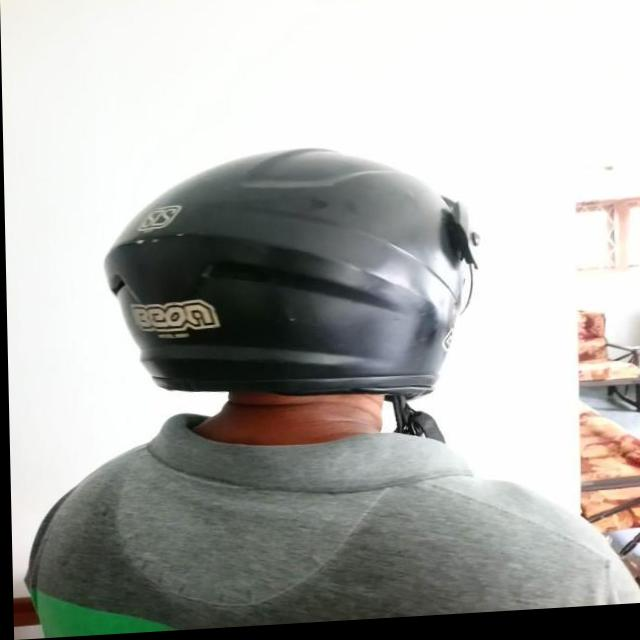helmet: (99, 140, 486, 465)
